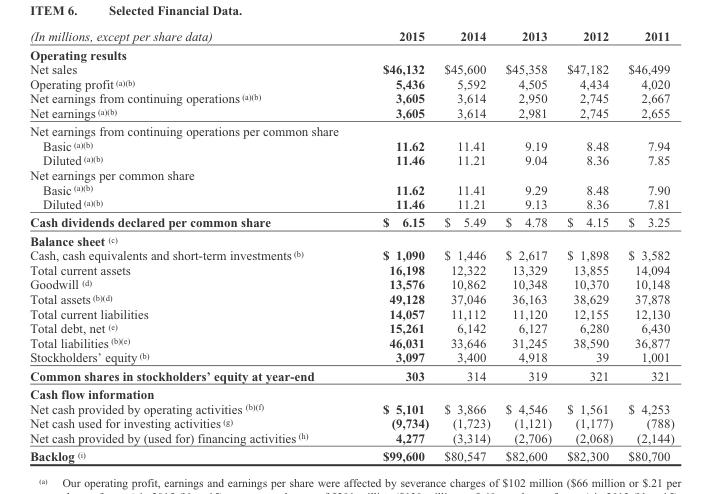table: (29, 28, 673, 462)
table column: (29, 28, 347, 462), (347, 28, 435, 462), (435, 28, 497, 462), (497, 28, 558, 462), (558, 28, 619, 462), (619, 28, 673, 462)
table column header: (29, 28, 673, 45)
table projected row header: (29, 121, 673, 138), (29, 45, 673, 61), (29, 231, 673, 247), (29, 384, 673, 400), (29, 167, 673, 181)
table row: (29, 212, 673, 231), (29, 366, 673, 384), (29, 28, 673, 45), (29, 121, 673, 138), (29, 349, 673, 366), (29, 45, 673, 61), (29, 105, 673, 121), (29, 196, 673, 212), (29, 231, 673, 247), (29, 384, 673, 400), (29, 430, 673, 446), (29, 446, 673, 462), (29, 61, 673, 76), (29, 90, 673, 105), (29, 152, 673, 167), (29, 181, 673, 196), (29, 247, 673, 262), (29, 276, 673, 291), (29, 305, 673, 320), (29, 320, 673, 335), (29, 400, 673, 415), (29, 415, 673, 430), (29, 76, 673, 90), (29, 138, 673, 152), (29, 167, 673, 181), (29, 262, 673, 276), (29, 291, 673, 305), (29, 335, 673, 349)
